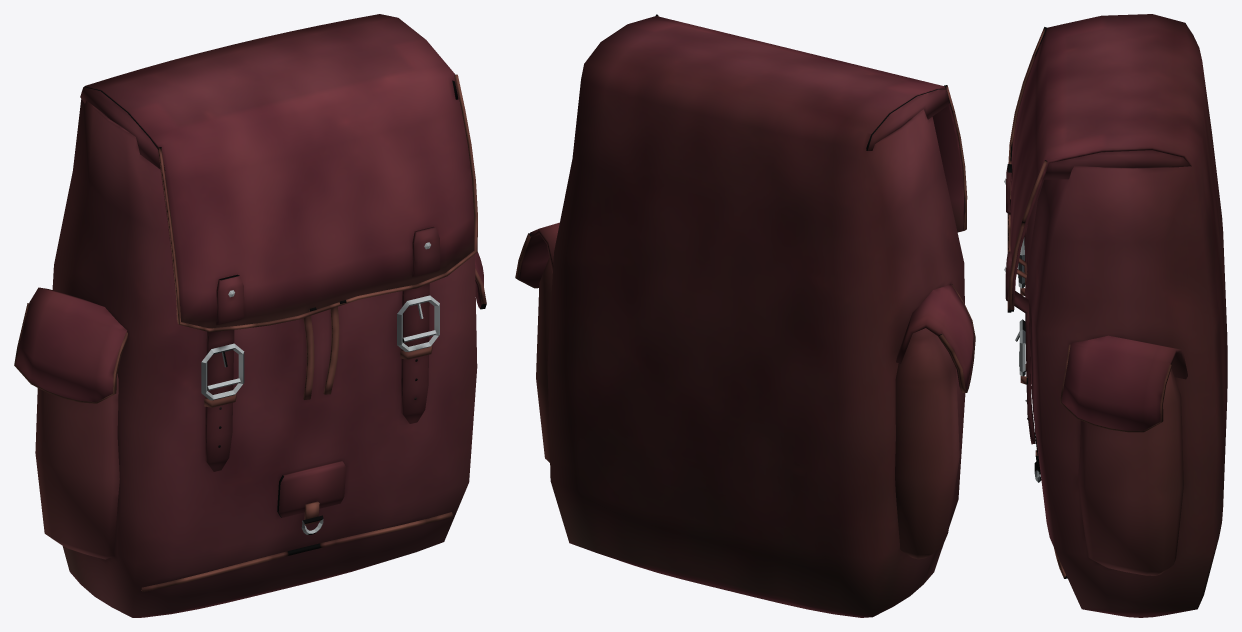
The model's file is BurgundyRucksack.glb.
3 renders of one model, left to right at view 1: azimuth 30°, elevation 25°; view 2: azimuth 150°, elevation 25°; view 3: azimuth 270°, elevation 25°, orthographic. The views are drawn at different scales.
Parts seen in each view (by area): view 1: Burgundy rucksack • silver medieval closures; view 2: Burgundy rucksack • silver medieval closures; view 3: Burgundy rucksack • silver medieval closures.
Part boxes in pixels (bbox=[...]): Burgundy rucksack • silver medieval closures: bbox=[14, 14, 486, 617]; Burgundy rucksack • silver medieval closures: bbox=[515, 14, 975, 617]; Burgundy rucksack • silver medieval closures: bbox=[1004, 14, 1227, 617].
Size of the model in its own units: 1.17 by 1.26 by 0.5311.
Materials: 6 (6 with a texture image).
